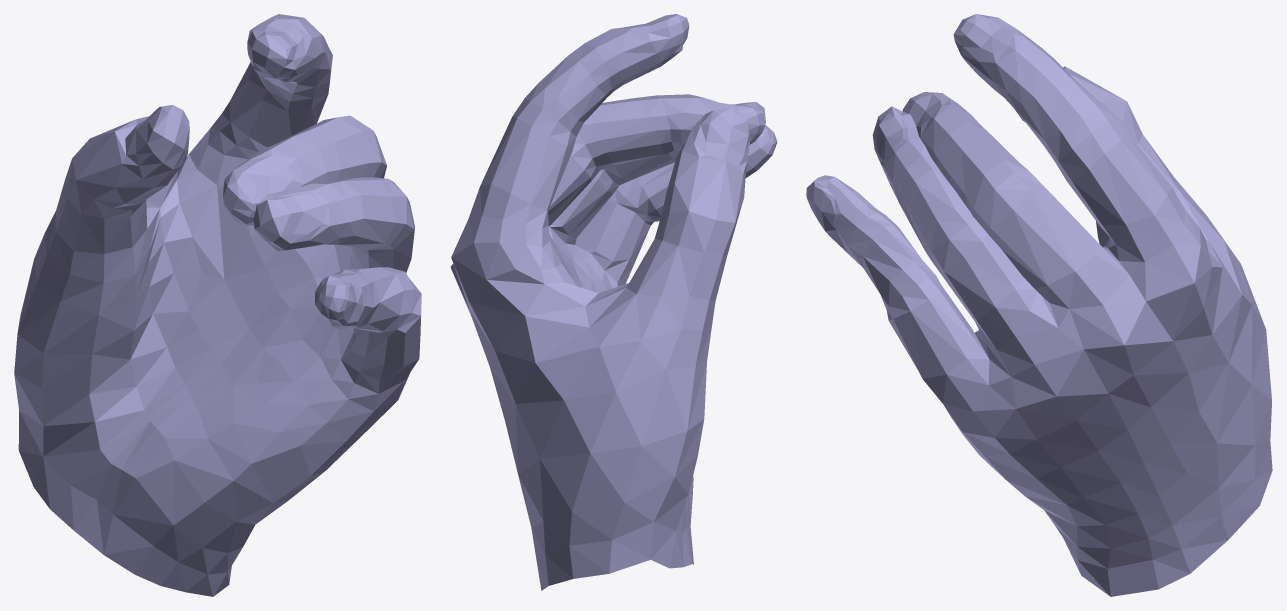
File: hand_0000.glb
3 views of the same model, side by side, from view 1: azimuth 30°, elevation 25°; view 2: azimuth 150°, elevation 25°; view 3: azimuth 270°, elevation 25° (orthographic). The views are drawn at different scales.
Visible parts, largest first — view 1: world; view 2: world; view 3: world.
Part boxes in pixels (left/top/right/bottom): world: left=14, top=14, right=421, bottom=596; world: left=450, top=14, right=777, bottom=590; world: left=806, top=14, right=1272, bottom=596.
Size of the model in its own units: 0.0821 by 0.1562 by 0.1165.
